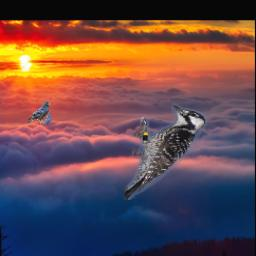Crow: (28, 100, 51, 124)
Woodpecker: (123, 103, 206, 200)
